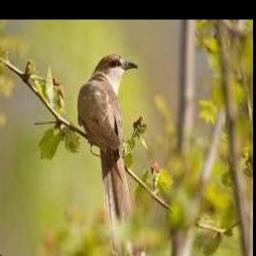Cuckoo: (77, 53, 144, 256)
